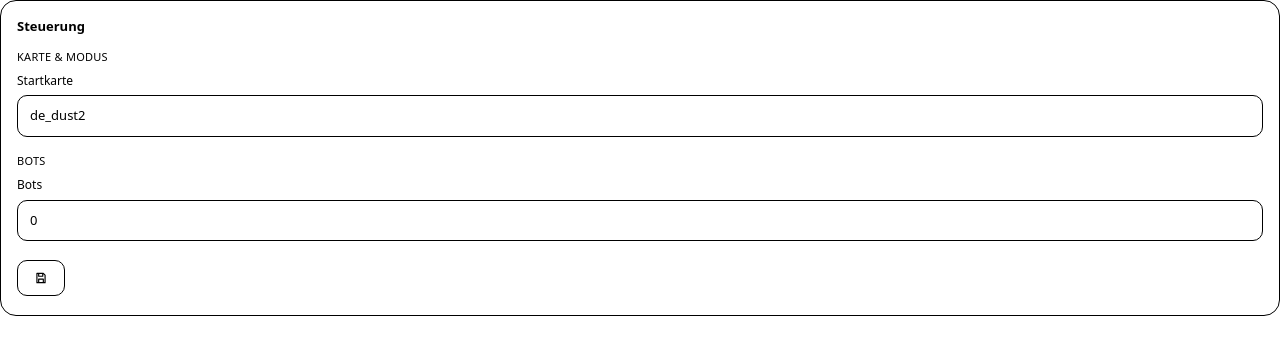
Test case: LiveControlsCard › warnt, wenn die Karte neu geladen wird
Select "de_mirage" in the dropdown labelled "Startkarte" at (640, 116), box [17,95,1263,137]
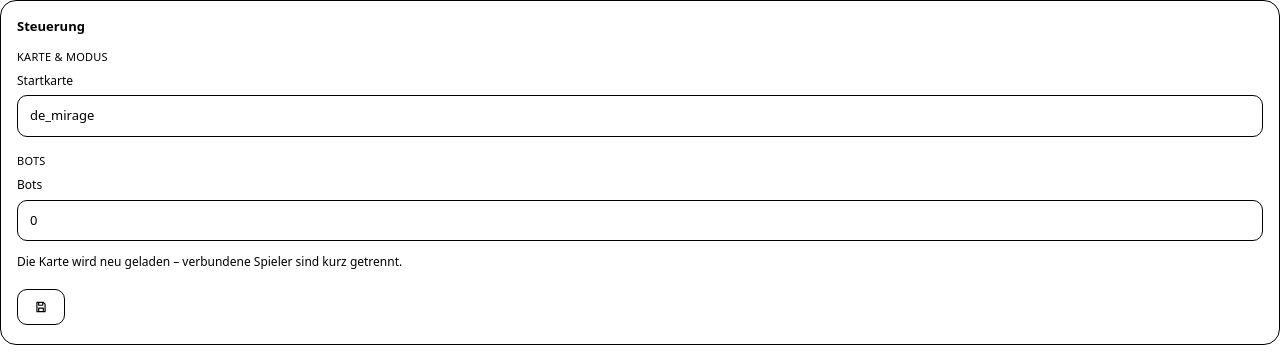
Now the text "Karte wird neu geladen" is shown, box [17,253,402,270]
